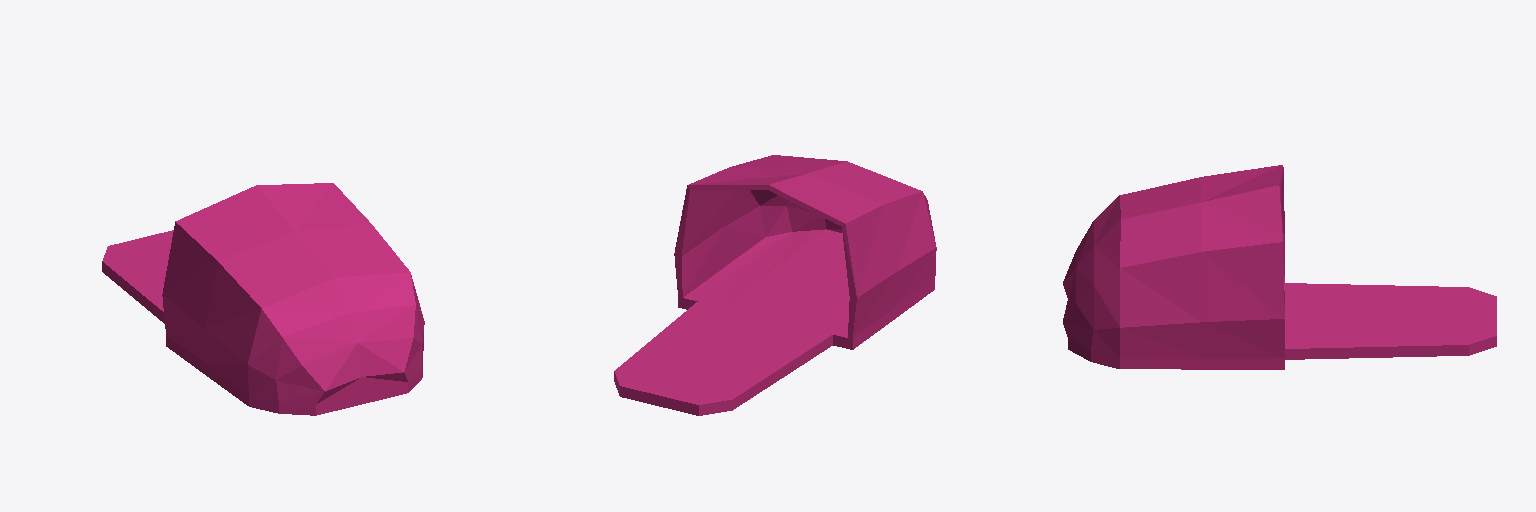
The model's file is Chancla.obj.
The picture shows the model from 3 angles: view 1: azimuth 30°, elevation 25°; view 2: azimuth 150°, elevation 25°; view 3: azimuth 270°, elevation 25°; orthographic projection.
Visible parts, largest first — view 1: Chancla_Sans_Chancla; view 2: Chancla_Sans_Chancla; view 3: Chancla_Sans_Chancla.
Part boxes in pixels (x1,y1,x2,y2): Chancla_Sans_Chancla: (102, 183, 424, 415); Chancla_Sans_Chancla: (614, 155, 936, 415); Chancla_Sans_Chancla: (1063, 165, 1496, 369).
Size of the model in its own units: 0.9951 by 0.7381 by 2.05.